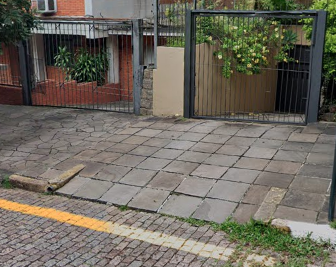vag35: (55, 163, 265, 247)
